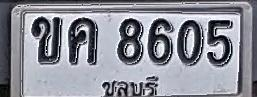0: (177, 18, 203, 66)
5: (207, 18, 232, 66)
6: (148, 18, 173, 65)
8: (118, 18, 142, 64)
A02: (31, 16, 62, 64)
A04: (68, 17, 98, 65)
CBI: (98, 72, 158, 97)
